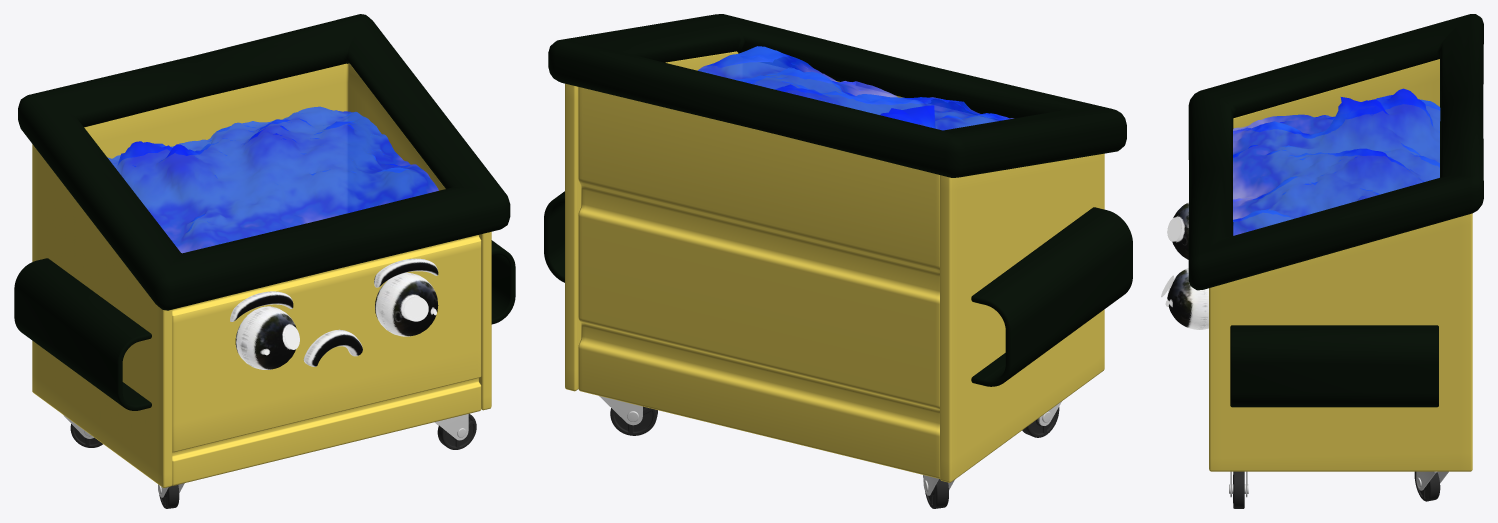
3 renders of one model, left to right at view 1: azimuth 30°, elevation 25°; view 2: azimuth 150°, elevation 25°; view 3: azimuth 270°, elevation 25°, orthographic. The views are drawn at different scales.
Visible parts, largest first — view 1: Dumpster Geometry, Explosion Fire Base.002, Wheel Holder; view 2: Dumpster Geometry, Explosion Fire Base.002, Wheel Holder; view 3: Dumpster Geometry, Explosion Fire Base.002, Wheel Holder.
Part boxes in pixels (x1=…): Dumpster Geometry: x1=14, y1=14, x2=515, y2=508; Explosion Fire Base.002: x1=107, y1=106, x2=438, y2=253; Wheel Holder: x1=63, y1=414, x2=468, y2=497; Dumpster Geometry: x1=544, y1=14, x2=1132, y2=508; Explosion Fire Base.002: x1=698, y1=46, x2=1013, y2=130; Wheel Holder: x1=599, y1=396, x2=1061, y2=495; Dumpster Geometry: x1=1161, y1=14, x2=1483, y2=508; Explosion Fire Base.002: x1=1233, y1=88, x2=1440, y2=235; Wheel Holder: x1=1229, y1=471, x2=1448, y2=497.
Size of what is drawn, in the model's own units: 2.3 by 1.89 by 1.62.
8 materials, 4 textured.
